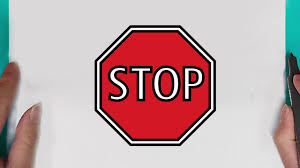stop sign: (94, 24, 215, 147)
